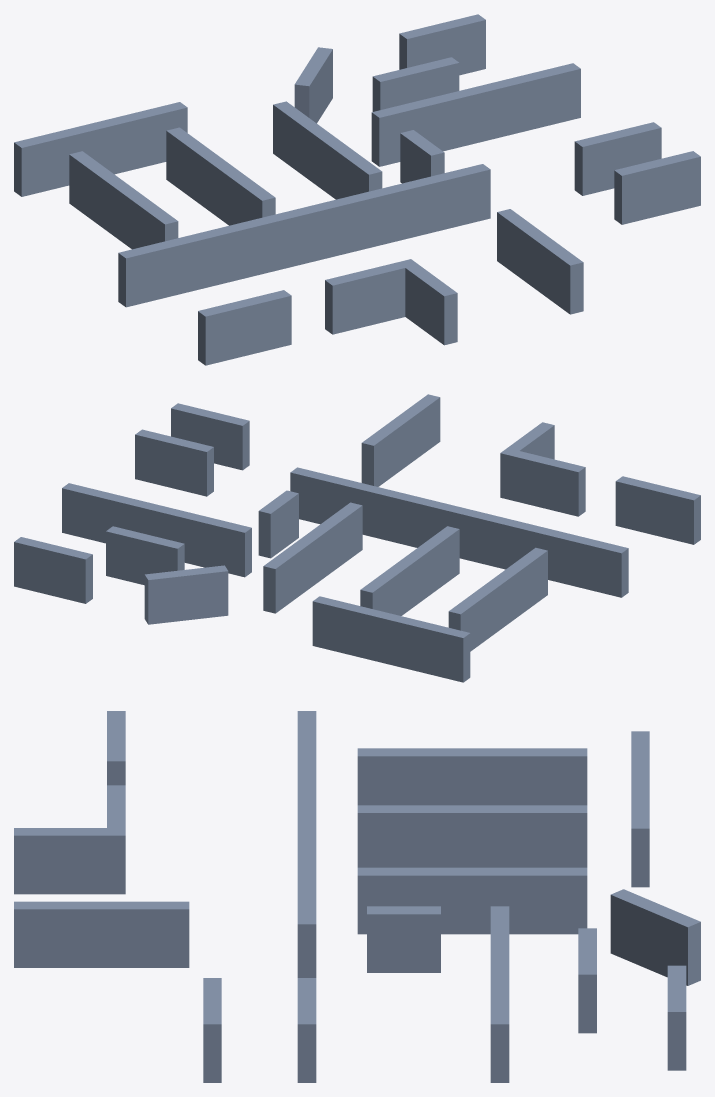
The model's file is Wall Partitions.fbx.
The picture shows the model from 3 angles, top to bottom: view 1: azimuth 30°, elevation 25°; view 2: azimuth 150°, elevation 25°; view 3: azimuth 270°, elevation 25°; orthographic projection. The views are drawn at different scales.
Parts seen in each view (by area): view 1: GameArea.015, GameArea.005, GameArea.013, GameArea, GameArea.008, GameArea.009, GameArea.007, GameArea.001, GameArea.002, GameArea.003, GameArea.004, GameArea.011 (+3 smaller); view 2: GameArea.015, GameArea.005, GameArea.013, GameArea.007, GameArea, GameArea.009, GameArea.008, GameArea.001, GameArea.002, GameArea.012, GameArea.004, GameArea.011 (+3 smaller); view 3: GameArea.008, GameArea.009, GameArea.007, GameArea.002, GameArea, GameArea.012, GameArea.015, GameArea.006, GameArea.005, GameArea.013, GameArea.011, GameArea.004 (+3 smaller).
Part boxes in pixels (bbox=[...]): GameArea.015: bbox=[118, 164, 490, 307]; GameArea.005: bbox=[371, 63, 580, 166]; GameArea.013: bbox=[14, 102, 187, 196]; GameArea: bbox=[325, 259, 457, 345]; GameArea.008: bbox=[166, 127, 275, 225]; GameArea.009: bbox=[69, 151, 178, 249]; GameArea.007: bbox=[273, 101, 382, 199]; GameArea.001: bbox=[198, 290, 291, 365]; GameArea.002: bbox=[497, 209, 583, 314]; GameArea.003: bbox=[614, 151, 700, 224]; GameArea.004: bbox=[574, 122, 661, 195]; GameArea.011: bbox=[399, 14, 485, 75]; GameArea.015: bbox=[290, 467, 628, 597]; GameArea.005: bbox=[62, 483, 251, 577]; GameArea.013: bbox=[312, 596, 470, 682]; GameArea.007: bbox=[263, 502, 362, 613]; GameArea: bbox=[500, 422, 585, 516]; GameArea.009: bbox=[448, 547, 547, 651]; GameArea.008: bbox=[360, 526, 459, 615]; GameArea.001: bbox=[615, 476, 700, 544]; GameArea.002: bbox=[361, 394, 440, 486]; GameArea.012: bbox=[144, 565, 228, 624]; GameArea.004: bbox=[135, 429, 213, 496]; GameArea.011: bbox=[14, 537, 92, 603]; GameArea.008: bbox=[357, 805, 587, 867]; GameArea.009: bbox=[357, 748, 587, 805]; GameArea.007: bbox=[357, 867, 587, 934]; GameArea.002: bbox=[14, 901, 189, 967]; GameArea: bbox=[14, 785, 125, 894]; GameArea.012: bbox=[610, 889, 700, 985]; GameArea.015: bbox=[297, 711, 316, 977]; GameArea.006: bbox=[367, 906, 440, 972]; GameArea.005: bbox=[490, 906, 509, 1082]; GameArea.013: bbox=[631, 731, 649, 887]; GameArea.011: bbox=[667, 965, 686, 1070]; GameArea.004: bbox=[297, 978, 316, 1082].
Bounding box in the file's own units: 4000 × 350 × 3709.
Materials: 1 (1 with a texture image).
